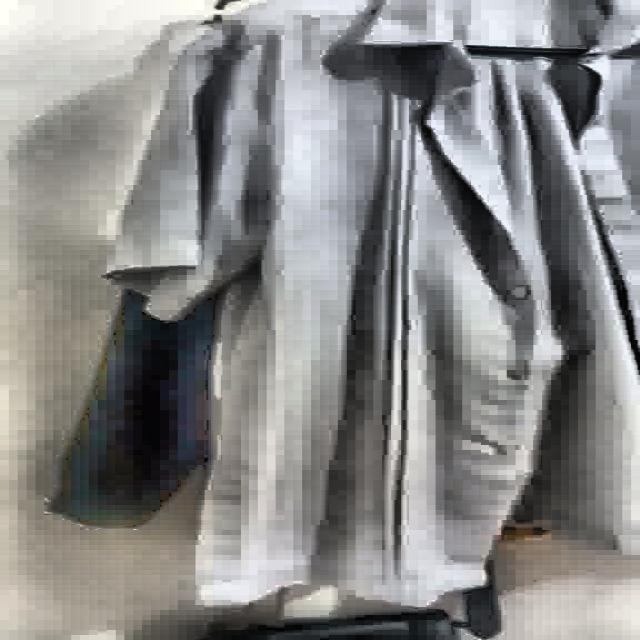clothes: (91, 0, 632, 628)
